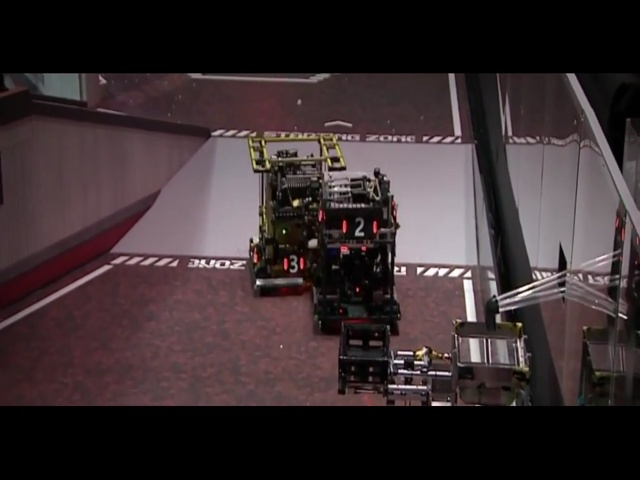plate: (269, 308, 312, 338), (390, 295, 417, 324), (372, 168, 392, 195), (315, 204, 339, 226), (260, 188, 289, 206), (259, 256, 280, 278), (326, 302, 339, 329), (352, 301, 366, 326), (396, 174, 408, 190), (339, 201, 349, 216)
